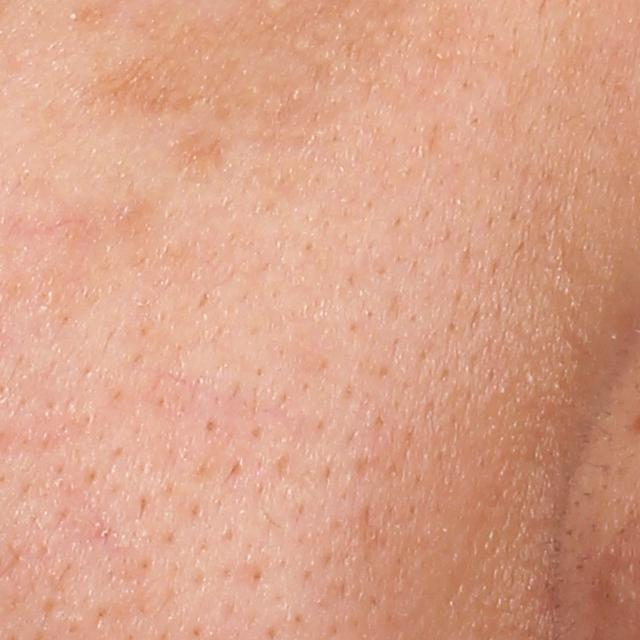melasma: (80, 48, 205, 115), (169, 131, 227, 189)
